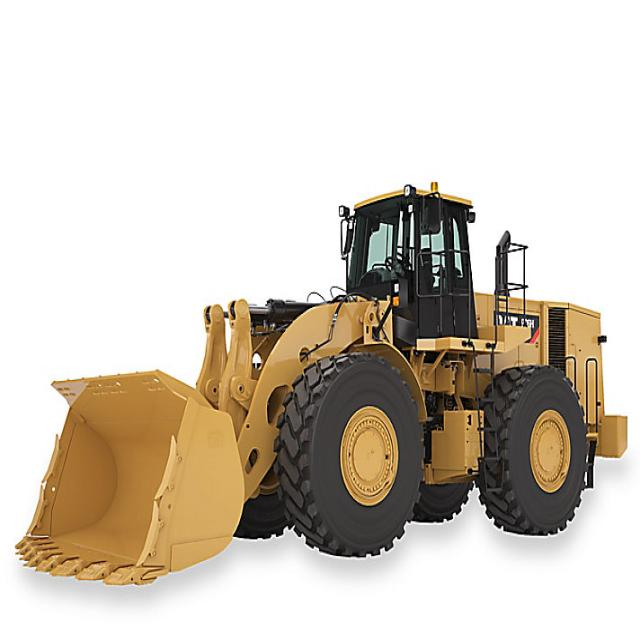buldozerpayloadergrader: (11, 174, 640, 586)
